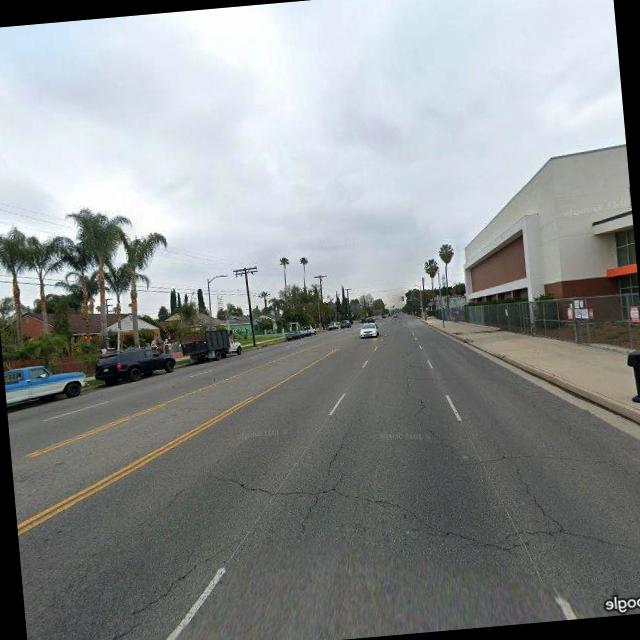crack: (325, 460, 640, 608), (74, 547, 236, 640), (188, 459, 318, 507), (512, 462, 568, 534), (322, 432, 353, 484)
